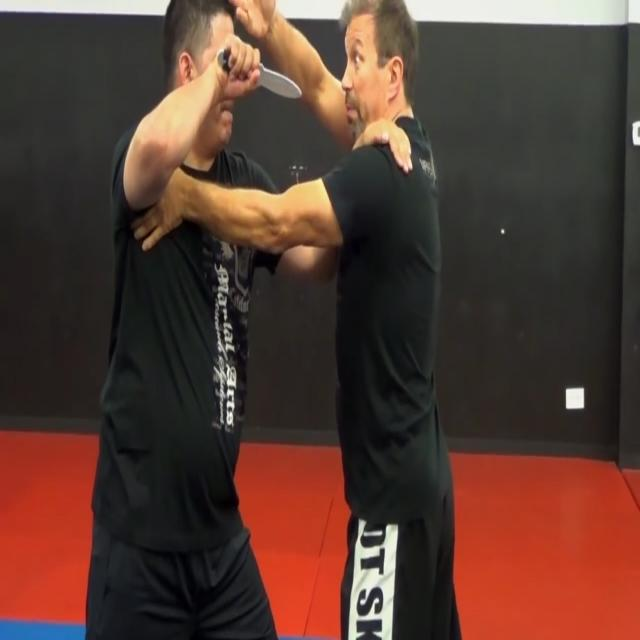knife: (218, 44, 308, 110)
